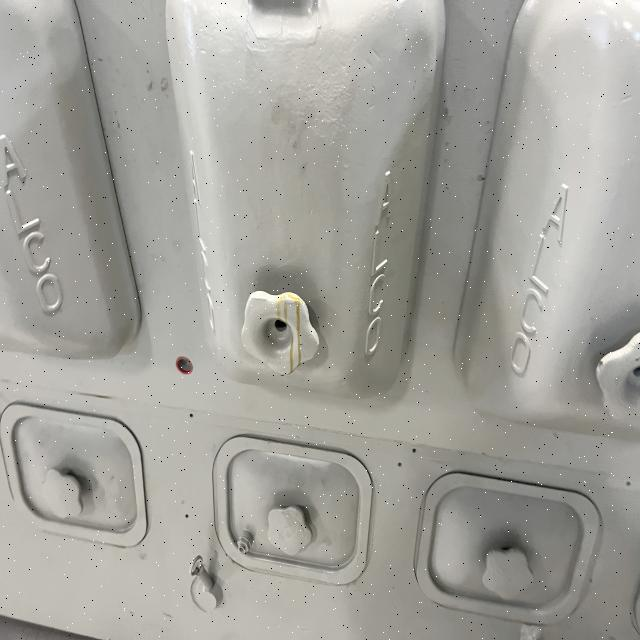Oil Leak: (271, 289, 317, 373)
